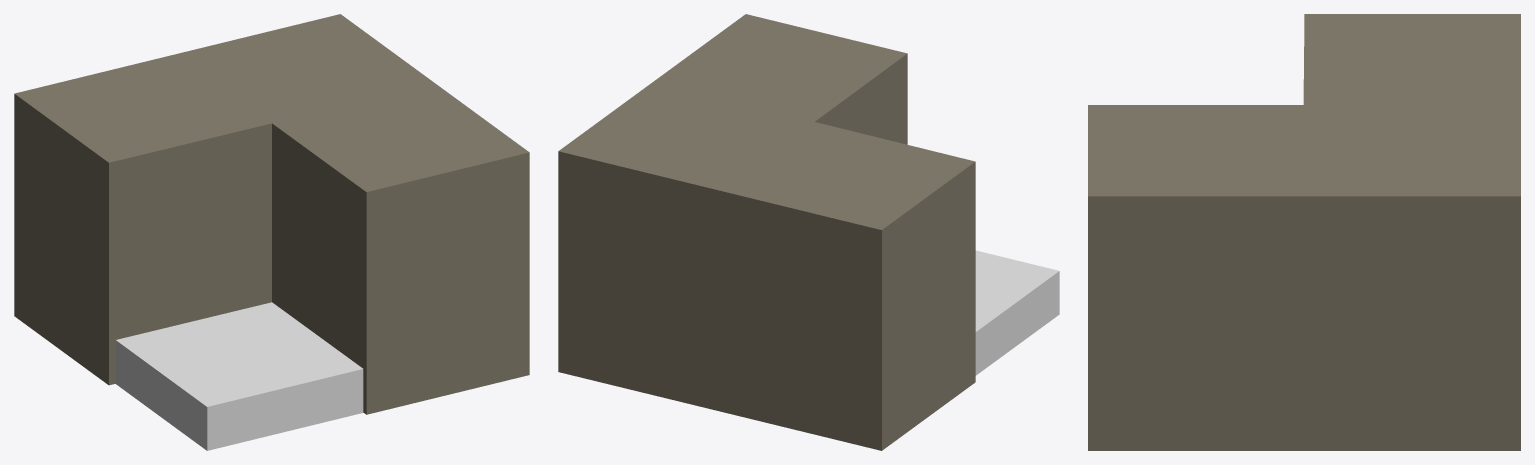
The picture shows the model from 3 angles, left to right: view 1: azimuth 30°, elevation 25°; view 2: azimuth 150°, elevation 25°; view 3: azimuth 270°, elevation 25°; orthographic projection. The views are drawn at different scales.
Parts seen in each view (by area): view 1: Cube.028, Cube; view 2: Cube.028, Cube; view 3: Cube.028.
Boxes of the visible parts, x1,y1,x2,y2 form: Cube.028: (14, 14, 529, 414); Cube: (115, 302, 363, 450); Cube.028: (558, 14, 975, 450); Cube: (975, 250, 1059, 375); Cube.028: (1088, 14, 1520, 450).
Size of the model in its own units: 12.41 by 8.1 by 12.46.
